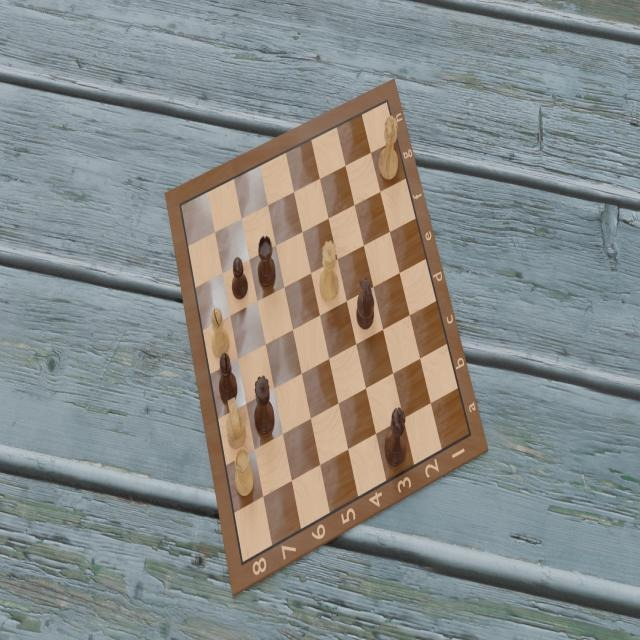black-bishop: (216, 349, 239, 400)
black-king: (382, 403, 410, 473)
black-knight: (353, 274, 377, 333)
black-pawn: (226, 248, 250, 304)
black-queen: (253, 373, 278, 442)
black-rook: (253, 231, 278, 292)
white-bishop: (208, 303, 231, 361)
white-king: (375, 112, 401, 183)
white-knight: (223, 395, 248, 453)
white-queen: (315, 238, 342, 307)
white-rook: (231, 442, 256, 503)
